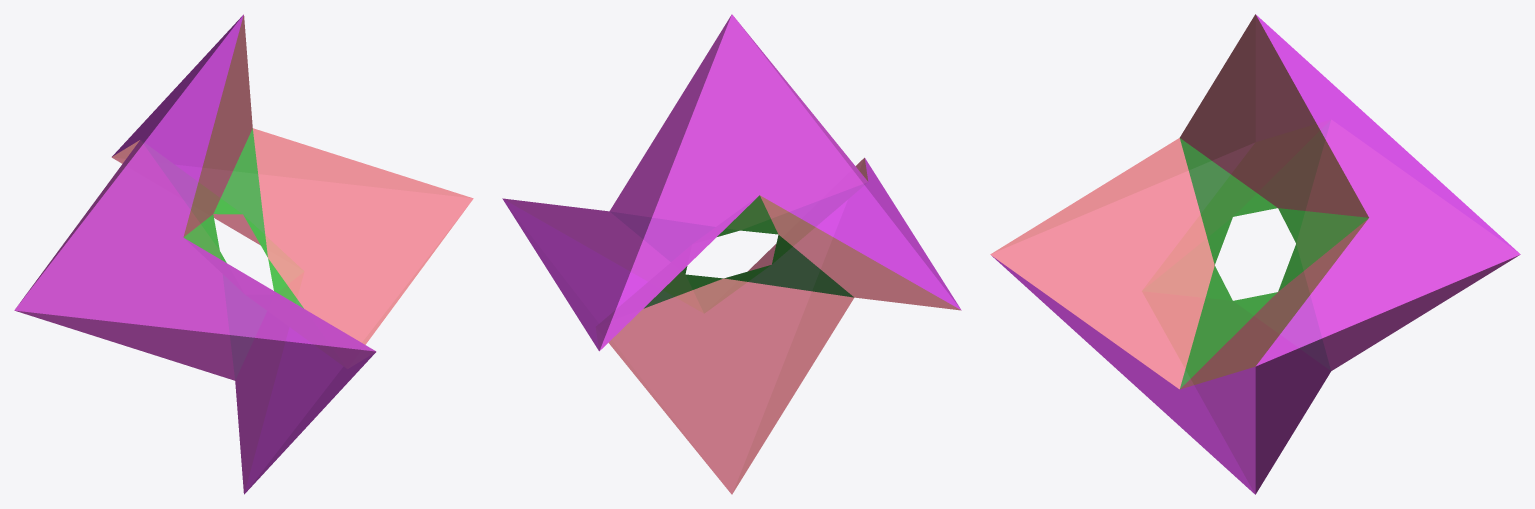
The model's file is Regular3TetragonalToroid_B.obj.
The picture shows the model from 3 angles, left to right: view 1: azimuth 30°, elevation 25°; view 2: azimuth 150°, elevation 25°; view 3: azimuth 270°, elevation 25°; orthographic projection.
Size of the model in its own units: 37.8 by 37.8 by 37.8.
